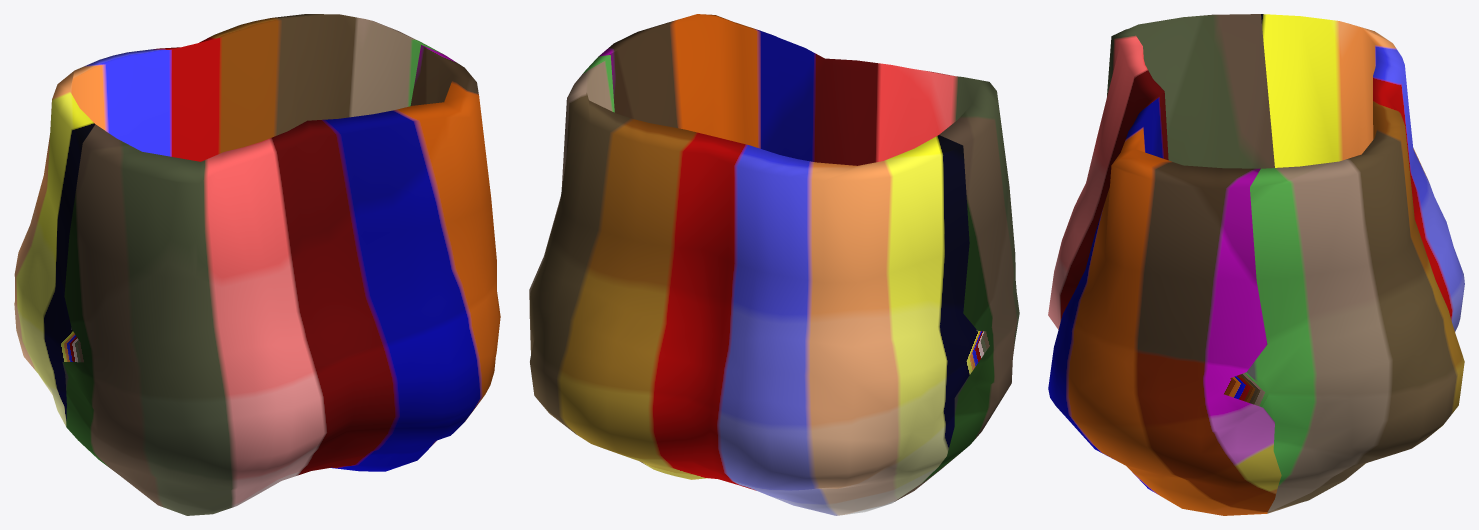
The model's file is BrainCup.fbx.
3 views of the same model, side by side, from view 1: azimuth 30°, elevation 25°; view 2: azimuth 150°, elevation 25°; view 3: azimuth 270°, elevation 25° (orthographic). The views are drawn at different scales.
Parts seen in each view (by area): view 1: BrainCup; view 2: BrainCup; view 3: BrainCup.
Boxes of the visible parts, box(x1,y1,x2,y2) form: BrainCup: box(14, 14, 500, 515); BrainCup: box(529, 14, 1019, 515); BrainCup: box(1048, 14, 1464, 515).
Size of the model in its own units: 238 by 229 by 228.
